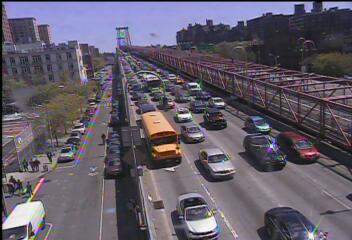neg: (163, 133, 197, 178), (246, 62, 277, 103), (47, 21, 78, 62), (286, 102, 316, 142), (98, 94, 123, 127), (257, 178, 281, 209), (81, 142, 104, 173), (44, 71, 67, 102), (172, 12, 194, 41), (117, 20, 136, 46), (248, 29, 265, 51)
pos: (2, 172, 20, 195), (30, 156, 43, 172), (25, 183, 36, 198), (19, 157, 30, 172), (101, 131, 110, 143), (45, 161, 52, 171)
